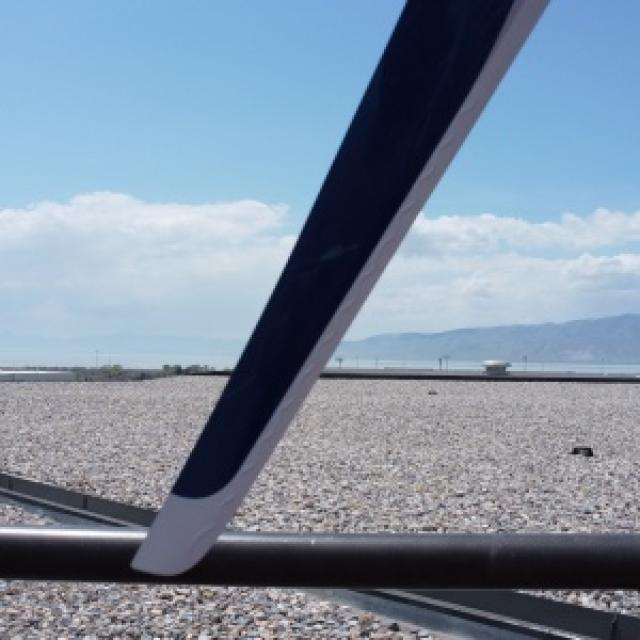healthy: (139, 0, 542, 567), (427, 0, 638, 218)
